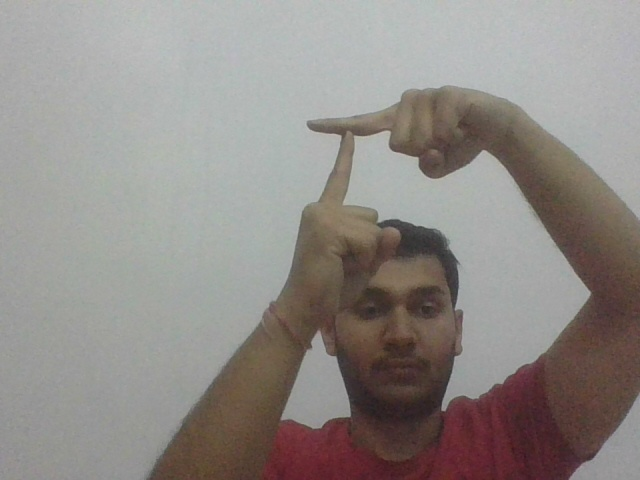T: (306, 107, 384, 202)
